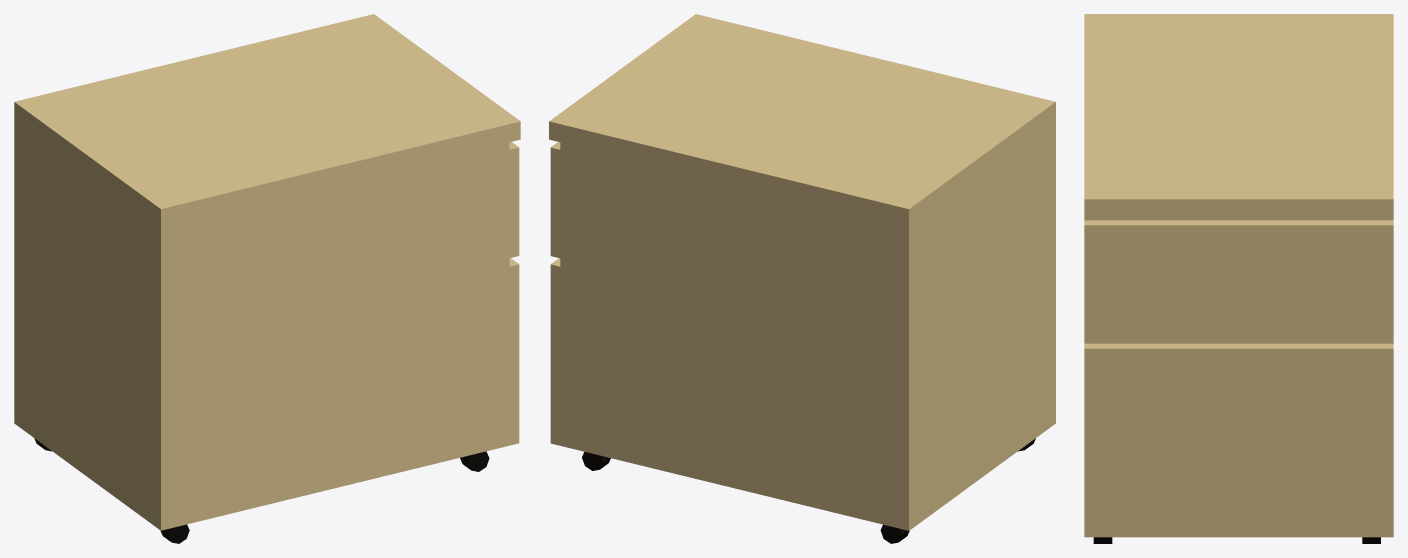
Rendered from drawer.dae.
3 views of the same model, side by side, from view 1: azimuth 30°, elevation 25°; view 2: azimuth 150°, elevation 25°; view 3: azimuth 270°, elevation 25° (orthographic). The views are drawn at different scales.
Visible parts, largest first — view 1: office_drawer_block; view 2: office_drawer_block; view 3: office_drawer_block.
Part boxes in pixels (x1,y1,x2,y2): office_drawer_block: (14,14,520,543); office_drawer_block: (549,14,1055,543); office_drawer_block: (1084,14,1393,543).
Size of the model in its own units: 0.609 by 0.43 by 0.5576.
